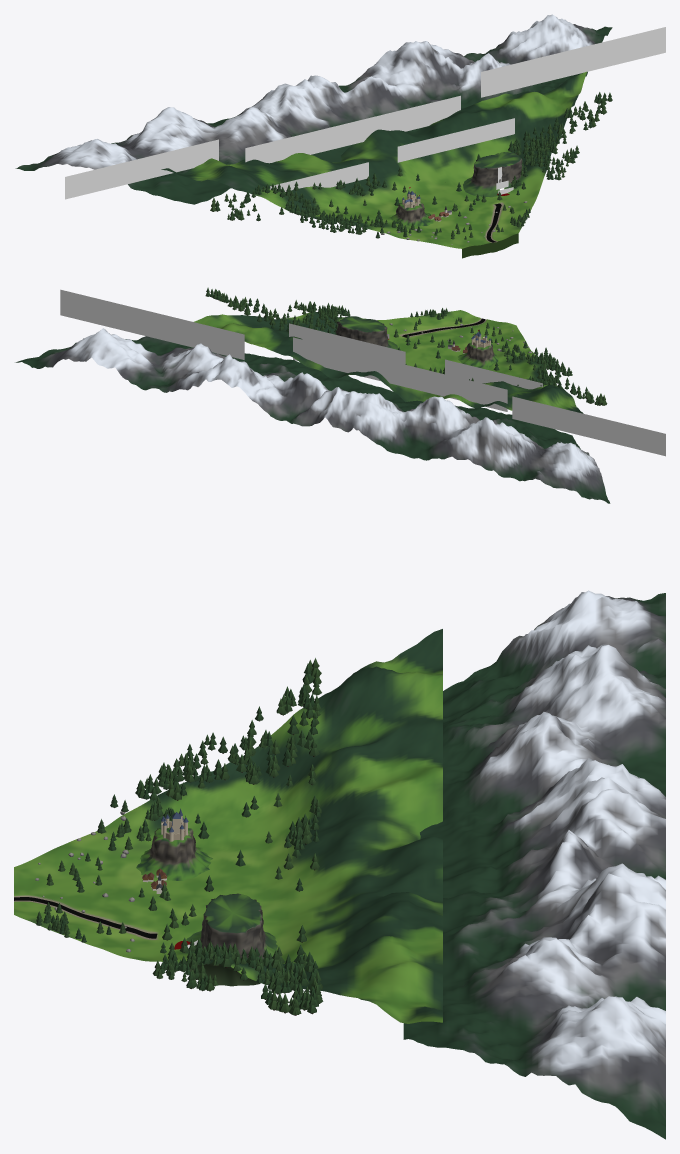
File: backdrop_1.glb
3 renders of one model, top to bottom at view 1: azimuth 30°, elevation 25°; view 2: azimuth 150°, elevation 25°; view 3: azimuth 270°, elevation 25°, orthographic. The views are drawn at different scales.
Visible parts, largest first — view 1: far_peaks, mid_valley, mid_mist, mid_pines, mid_cliff, lm_crag, near_lip; view 2: far_peaks, mid_mist, mid_valley, mid_pines, mid_cliff, lm_crag, near_pines; view 3: far_peaks, mid_valley, mid_pines, mid_cliff, lm_crag, near_pines.
Boxes of the visible parts, box(x1,y1,x2,y2) form: far_peaks: box(15, 14, 612, 204); mid_valley: box(161, 71, 586, 248); mid_mist: box(65, 27, 665, 202); mid_pines: box(210, 92, 612, 238); mid_cliff: box(463, 152, 523, 197); lm_crag: box(388, 201, 433, 226); near_lip: box(462, 233, 518, 258); far_peaks: box(15, 328, 610, 503); mid_mist: box(60, 289, 665, 456); mid_valley: box(194, 310, 583, 413); mid_pines: box(205, 287, 607, 405); mid_cliff: box(336, 316, 398, 349); lm_crag: box(457, 342, 498, 369); near_pines: box(410, 308, 503, 341); far_peaks: box(403, 590, 665, 1139); mid_valley: box(14, 629, 442, 1023); mid_pines: box(95, 658, 323, 1015); mid_cliff: box(185, 893, 277, 986); lm_crag: box(136, 827, 212, 880); near_pines: box(36, 852, 90, 942).
Size of the model in its own units: 1961 by 216 by 994.
